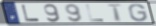9: (43, 3, 62, 23), (65, 3, 84, 23)
G: (128, 3, 149, 22)
L: (85, 4, 106, 22), (21, 5, 42, 22)
T: (107, 4, 124, 22)
